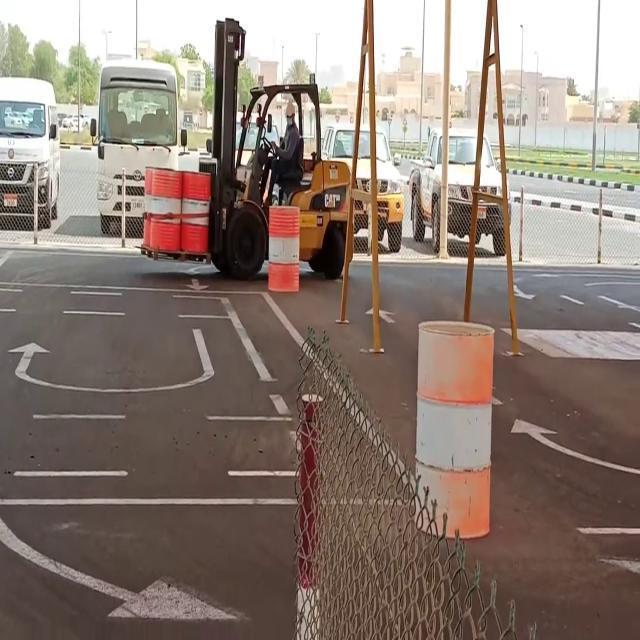forklift: (212, 69, 356, 272)
